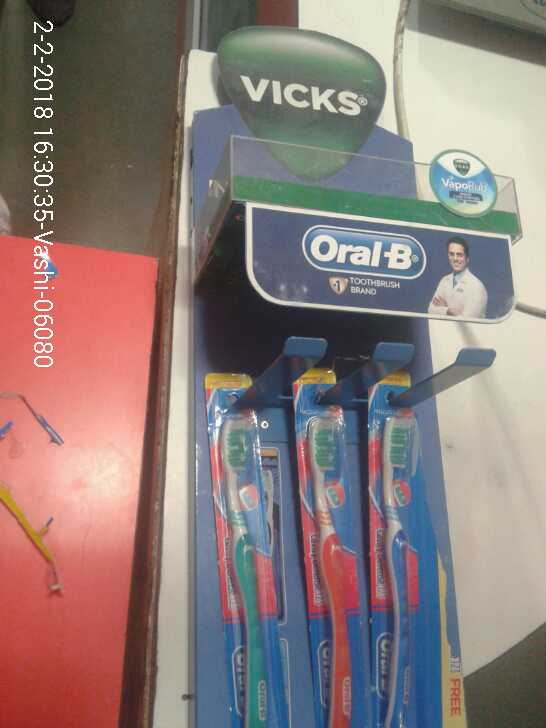oralb: (219, 415, 292, 728), (373, 414, 438, 723), (296, 409, 358, 728)
